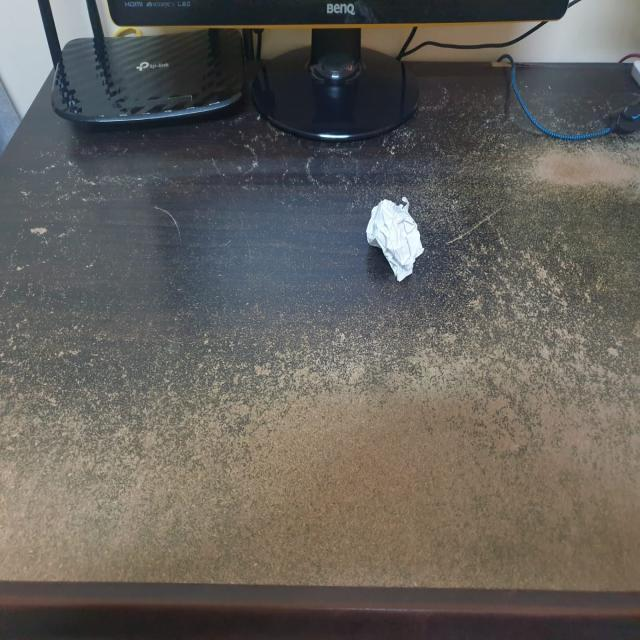Paper: (367, 193, 422, 275)
